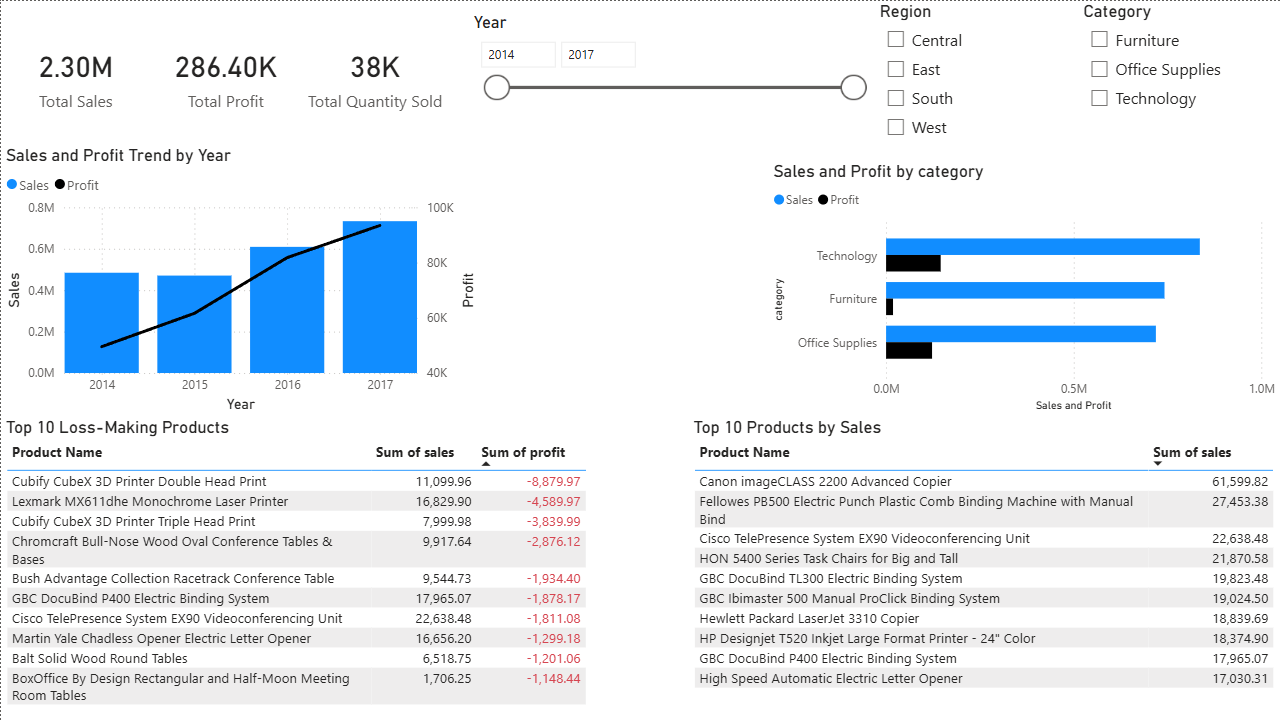

What the dashboard file says about the page in this screenshot:
{"tool":"powerbi","page":{"name":"Sales_Analytics_Dashboard","canvas":[1280,720],"ordinal":0},"visuals":[{"type":"card","fields":{"Values":["Sum(superstore_cleaned.sales)"]},"box":[0,0,150,150],"z":0},{"type":"card","fields":{"Values":["Sum(superstore_cleaned.profit)"]},"box":[150,0,150,150],"z":1000},{"type":"card","fields":{"Values":["Sum(superstore_cleaned.quantity)"]},"box":[300,0,148.8,150],"z":2000},{"type":"lineClusteredColumnComboChart","title":"Sales and Profit Trend by Year","fields":{"Category":["superstore_cleaned.order_date.Variation.Date Hierarchy.Year"],"Y":["Sum(superstore_cleaned.sales)"],"Y2":["Sum(superstore_cleaned.profit)"]},"box":[0,144,480,272],"z":3000},{"type":"clusteredBarChart","fields":{"Category":["superstore_cleaned.category"],"Y":["Sum(superstore_cleaned.sales)","Sum(superstore_cleaned.profit)"]},"box":[768,160,512,256],"z":4000},{"type":"tableEx","title":"Top 10 Products by Sales","fields":{"Values":["superstore_cleaned.product_name","Sum(superstore_cleaned.sales)"]},"box":[688,416,592,304],"z":5000},{"type":"tableEx","title":"Top 10 Loss-Making Products","fields":{"Values":["superstore_cleaned.product_name","Sum(superstore_cleaned.sales)","Sum(superstore_cleaned.profit)"]},"box":[0,416,624,304],"z":6000},{"type":"slicer","title":"Category","fields":{"Values":["superstore_cleaned.category"]},"box":[1077.5,0,202.5,127.5],"z":7000},{"type":"slicer","title":"Region","fields":{"Values":["superstore_cleaned.region"]},"box":[873.8,0,202.5,150],"z":8000},{"type":"slicer","title":"Year","fields":{"Values":["superstore_cleaned.order_year"]},"box":[467.5,11.2,406.2,128.8],"z":9000}]}

Visuals, with their boxes in screenshot pixels (x1, y1, x2, y2), scaled from the page's 1280x720 canvas onto the 1281x720 screenshot:
card - Sum(superstore_cleaned.sales): (left=0, top=0, right=150, bottom=150)
card - Sum(superstore_cleaned.profit): (left=150, top=0, right=300, bottom=150)
card - Sum(superstore_cleaned.quantity): (left=300, top=0, right=449, bottom=150)
"Sales and Profit Trend by Year" lineClusteredColumnComboChart: (left=0, top=144, right=480, bottom=416)
clusteredBarChart - superstore_cleaned.category x Sum(superstore_cleaned.sales): (left=769, top=160, right=1280, bottom=416)
"Top 10 Products by Sales" tableEx: (left=689, top=416, right=1280, bottom=719)
"Top 10 Loss-Making Products" tableEx: (left=0, top=416, right=624, bottom=719)
"Category" slicer: (left=1078, top=0, right=1280, bottom=128)
"Region" slicer: (left=874, top=0, right=1077, bottom=150)
"Year" slicer: (left=468, top=11, right=874, bottom=140)
